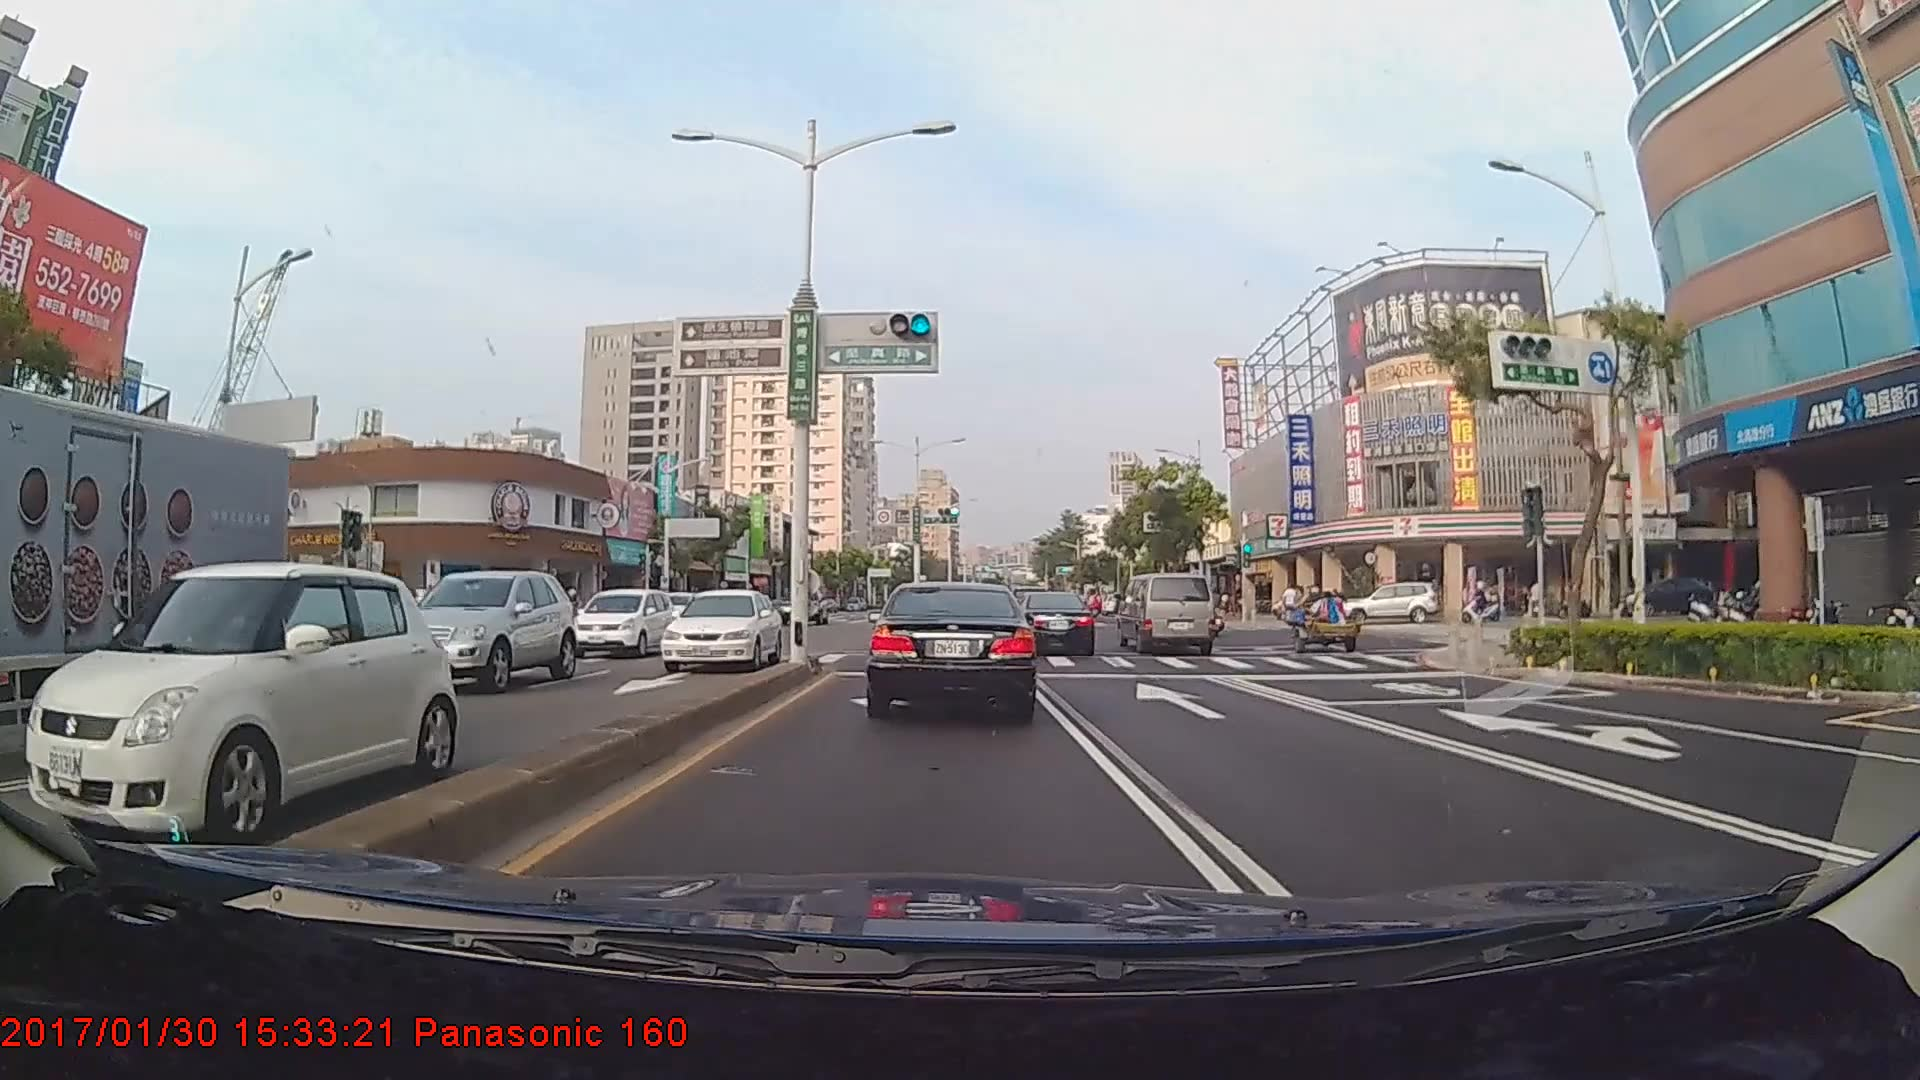vehicle: (22, 553, 435, 851), (0, 396, 282, 750), (367, 560, 568, 690), (866, 576, 1036, 721), (649, 583, 789, 674), (562, 583, 673, 659), (1121, 574, 1218, 655), (1014, 591, 1096, 655), (1352, 580, 1443, 626)
